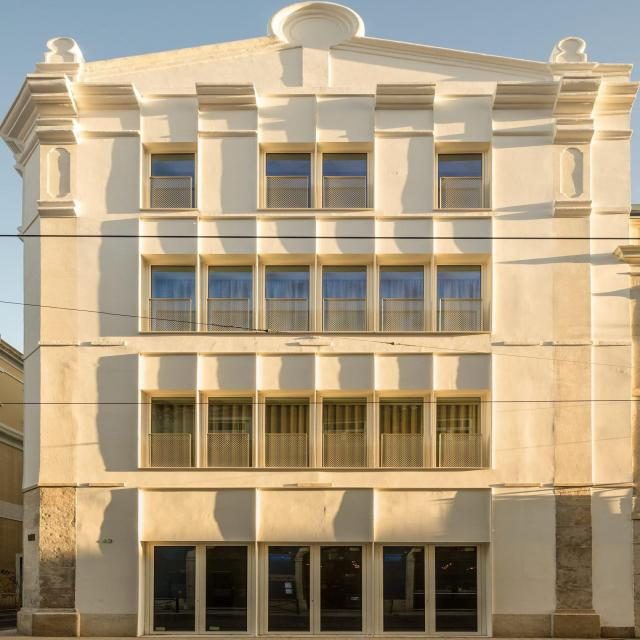Railing: (147, 299, 491, 332), (147, 434, 490, 466), (265, 176, 373, 208), (145, 177, 199, 208), (441, 178, 489, 208)
door: (149, 541, 486, 637)
wall: (0, 0, 635, 638)
windows: (158, 398, 486, 433), (155, 266, 486, 298), (269, 151, 374, 176), (440, 154, 486, 178), (154, 152, 197, 177)
